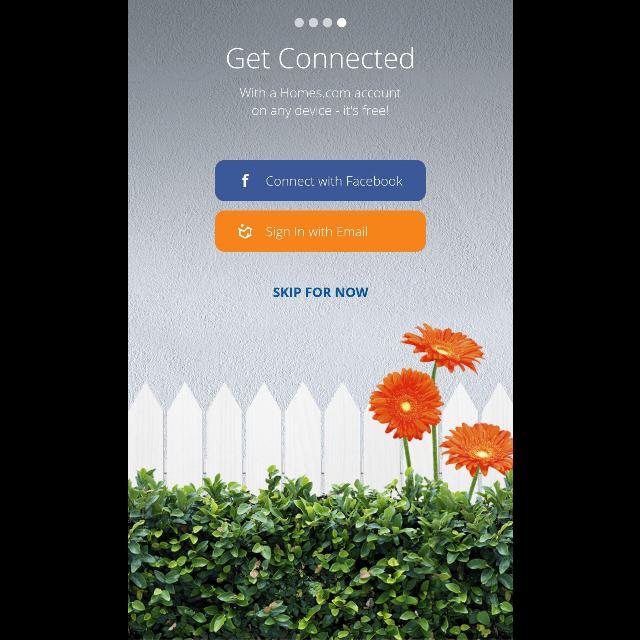backgroundimage: (128, 1, 512, 640)
image: (128, 322, 512, 640)
pageindicator: (294, 18, 346, 28)
text: (238, 87, 400, 119), (226, 47, 412, 69), (272, 287, 368, 297)
textbutton: (214, 160, 426, 202), (215, 210, 425, 252)
